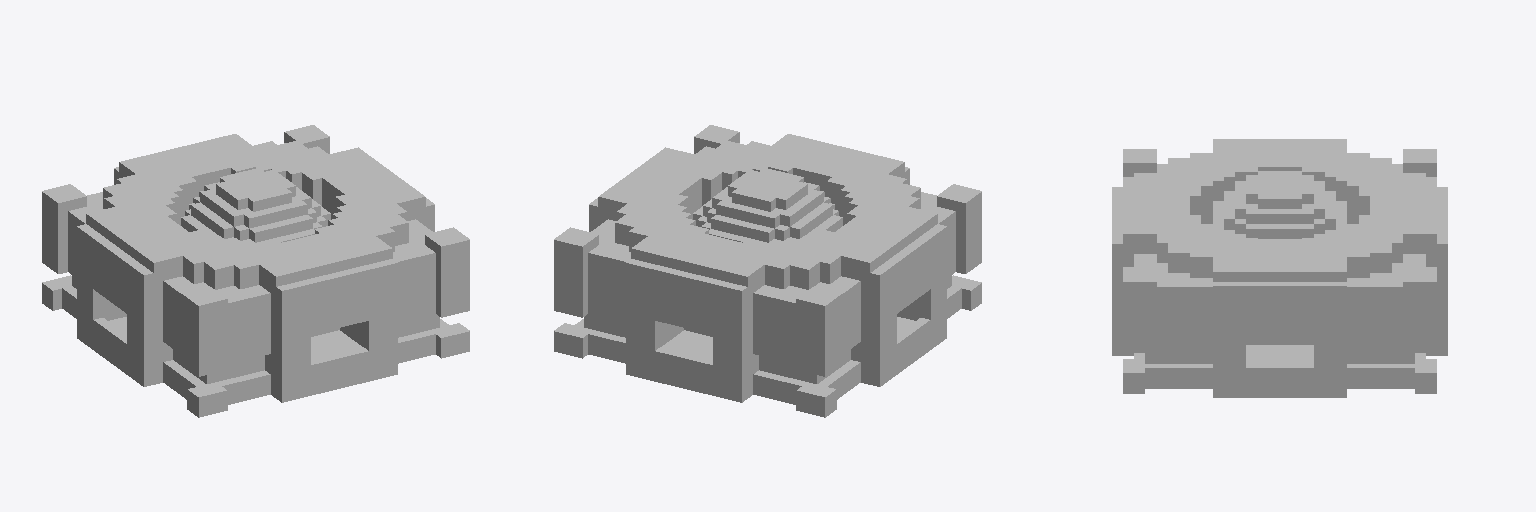
The model's file is Generator.obj.
The picture shows the model from 3 angles: view 1: azimuth 30°, elevation 25°; view 2: azimuth 150°, elevation 25°; view 3: azimuth 270°, elevation 25°; orthographic projection.
Visible parts, largest first — view 1: Generator; view 2: Generator; view 3: Generator.
Boxes of the visible parts, x1,y1,x2,y2 form: Generator: [42, 125, 469, 417]; Generator: [554, 125, 981, 417]; Generator: [1112, 139, 1447, 397].
Size of the model in its own units: 3 by 1.4 by 3.